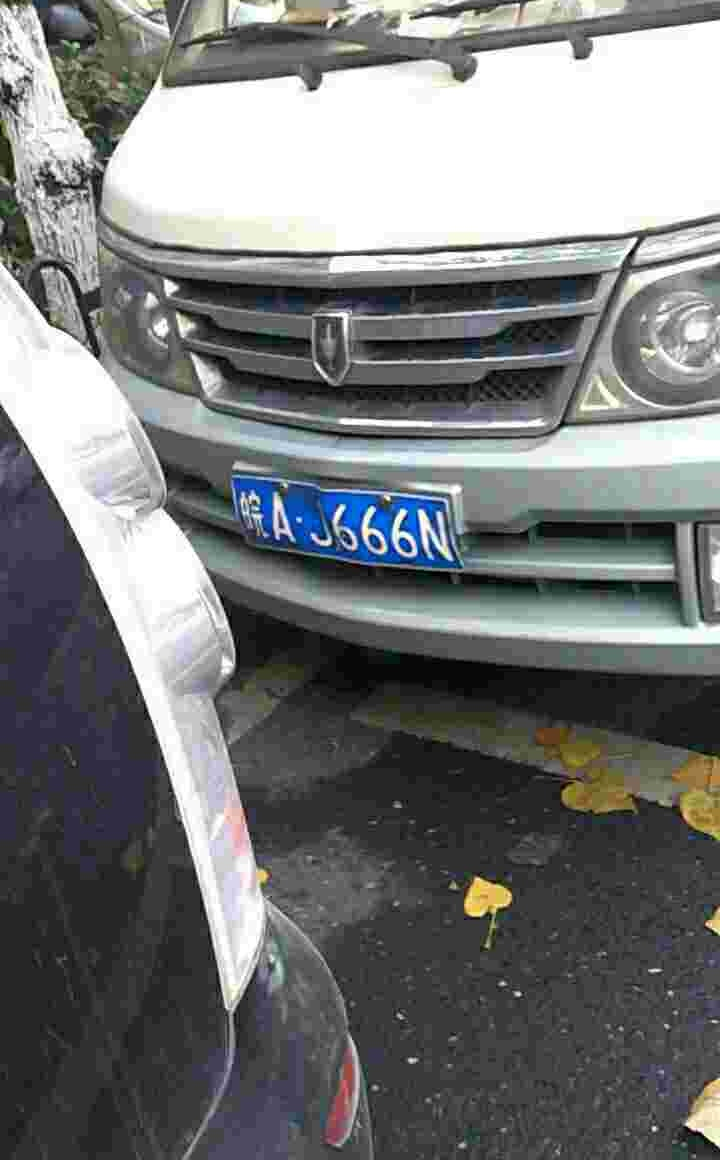license_plate: (238, 468, 451, 575)
